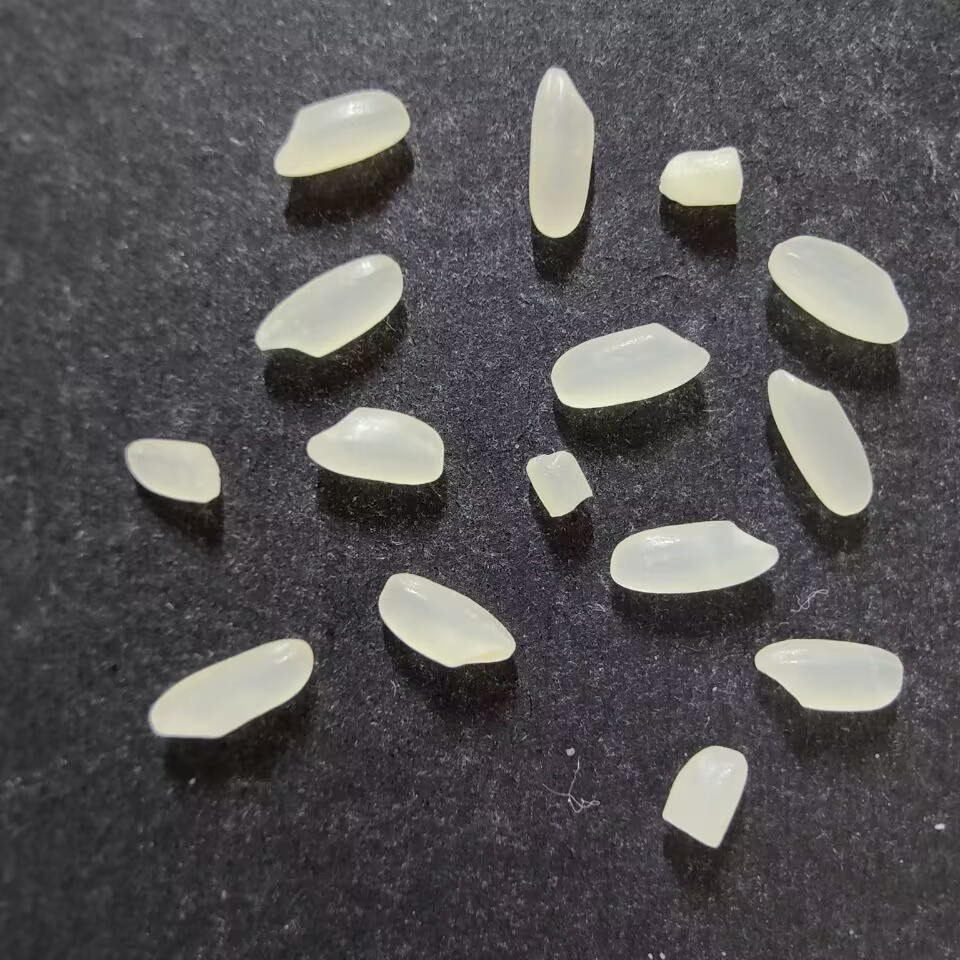broken: (661, 745, 747, 850), (125, 438, 220, 504), (658, 146, 743, 208), (525, 450, 592, 519)
rice: (149, 637, 313, 739), (766, 368, 873, 517), (767, 234, 909, 344), (254, 254, 403, 358), (550, 322, 710, 409), (376, 572, 516, 668), (608, 519, 779, 595), (273, 89, 410, 178), (527, 66, 594, 239), (752, 638, 903, 712), (306, 407, 445, 485)
